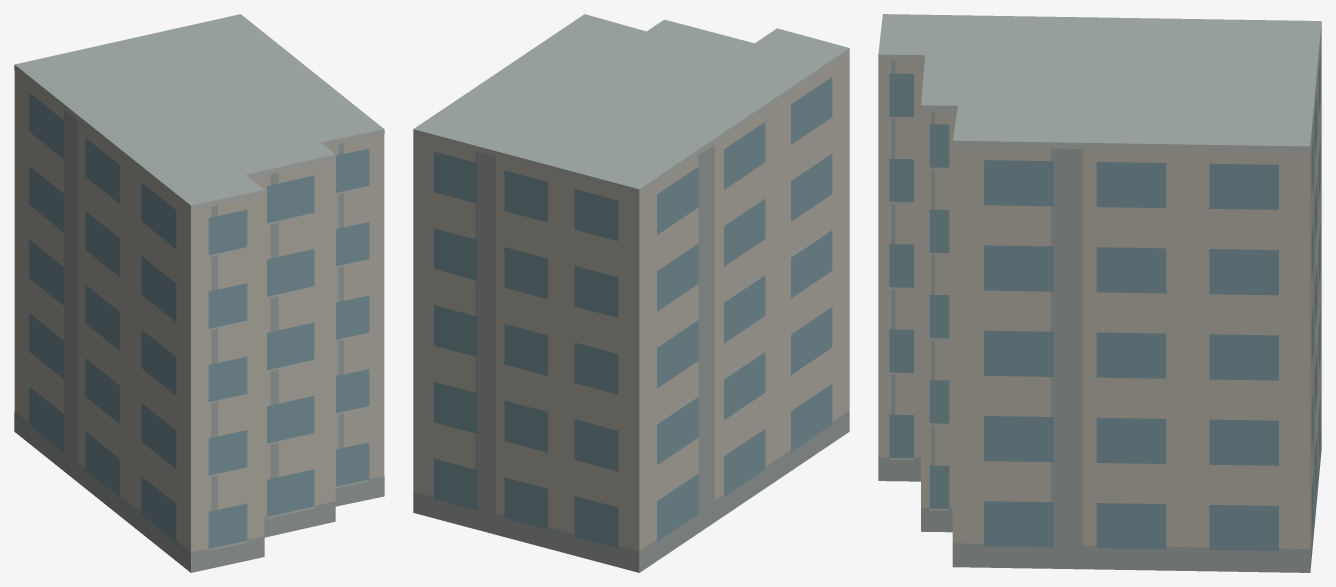
Rendered from survey-upis-32841113.glb.
The picture shows the model from 3 angles, left to right: view 1: azimuth 30°, elevation 25°; view 2: azimuth 150°, elevation 25°; view 3: azimuth 270°, elevation 25°; orthographic projection. The views are drawn at different scales.
Visible parts, largest first — view 1: survey-upis-32841113.tmp; view 2: survey-upis-32841113.tmp; view 3: survey-upis-32841113.tmp.
Boxes of the visible parts, x1,y1,x2,y2 form: survey-upis-32841113.tmp: (14, 14, 384, 572); survey-upis-32841113.tmp: (413, 14, 849, 572); survey-upis-32841113.tmp: (878, 14, 1321, 572).
Size of the model in its own units: 11.1 by 16.65 by 15.7.
